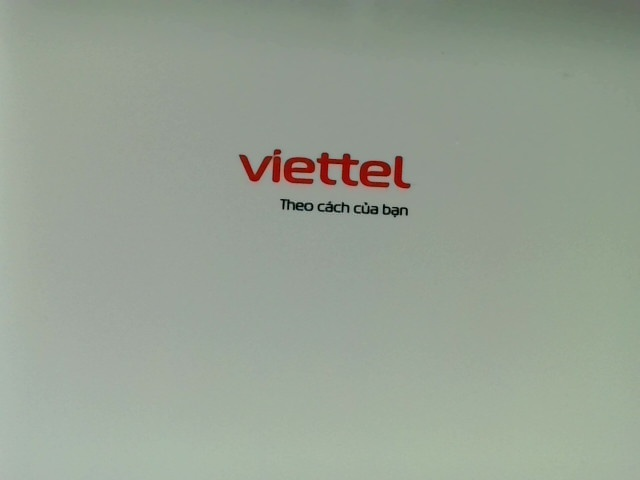AY_Viettel: (238, 141, 413, 222)
